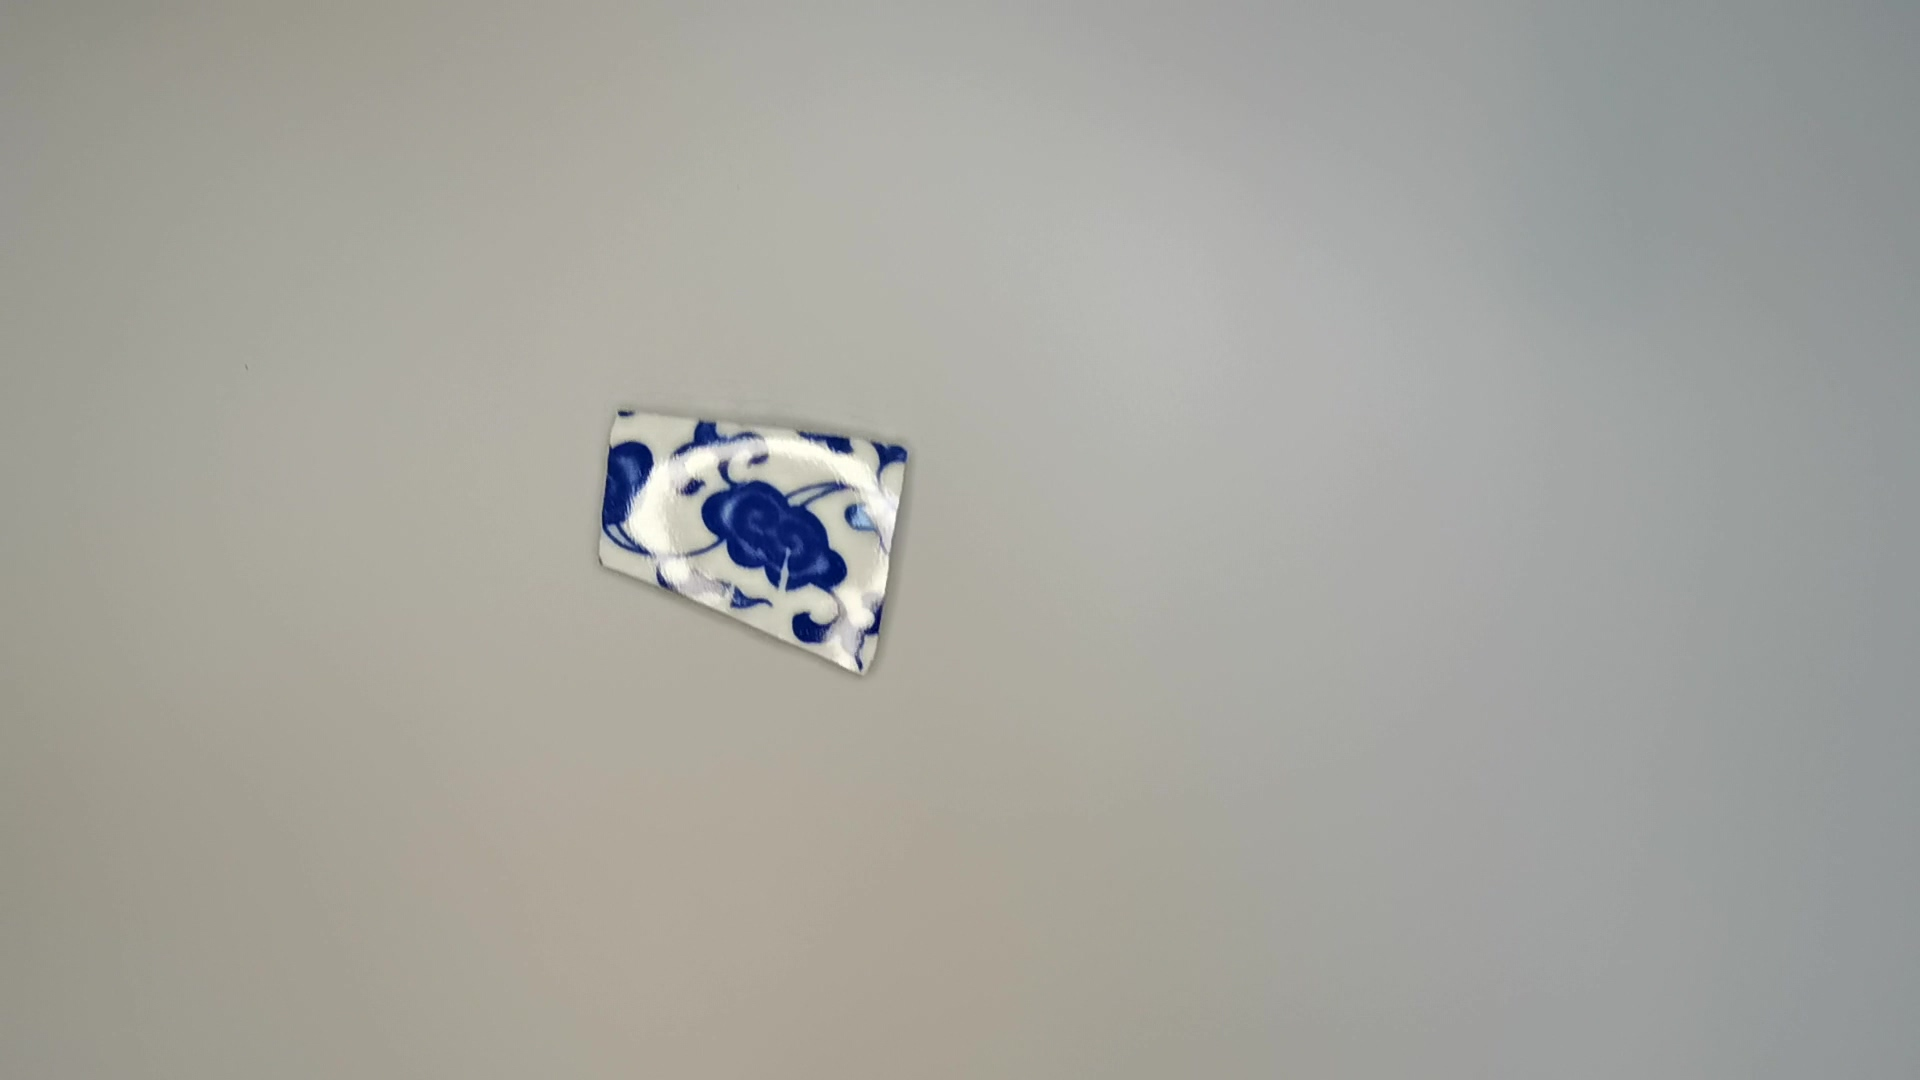ceramic: (585, 398, 913, 684)
